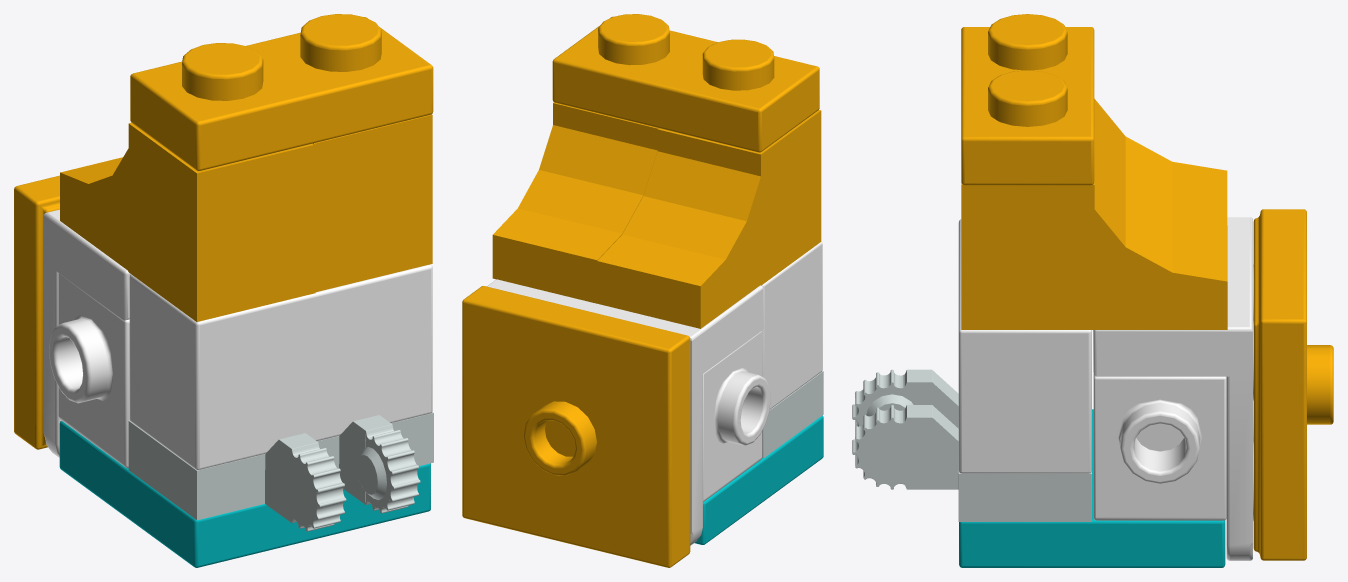
The model's file is Passo42.fbx.
3 renders of one model, left to right at view 1: azimuth 30°, elevation 25°; view 2: azimuth 150°, elevation 25°; view 3: azimuth 270°, elevation 25°, orthographic. The views are drawn at different scales.
Visible parts, largest first — view 1: Brick_1x2.003, Brick_curved_1x2.003, Plate_1x2.032, Hinge_plate.004, Brick_curved_1x2__1_, Plate_2x2.004, Brick_special_1x1__1_.016, Plate_special_2x2.001, Bracket__1x2.018; view 2: Plate_special_2x2.001, Brick_curved_1x2.003, Plate_1x2.032, Brick_curved_1x2__1_, Brick_special_1x1__1_.016, Bracket__1x2.018, Brick_1x2.003, Plate_2x2.004, Hinge_plate.004; view 3: Brick_curved_1x2__1_, Plate_1x2.032, Plate_special_2x2.001, Brick_1x2.003, Brick_special_1x1.016, Hinge_plate.004, Bracket__1x2.018, Plate_2x2.004, Brick_curved_1x2.003.
Part boxes in pixels (<box>): Brick_1x2.003: <box>129,264,432,469</box>; Brick_curved_1x2.003: <box>60,122,315,322</box>; Plate_1x2.032: <box>130,14,433,171</box>; Hinge_plate.004: <box>128,412,433,531</box>; Brick_curved_1x2__1_: <box>313,114,432,292</box>; Plate_2x2.004: <box>59,421,430,567</box>; Brick_special_1x1__1_.016: <box>49,273,129,467</box>; Plate_special_2x2.001: <box>14,175,59,449</box>; Bracket__1x2.018: <box>43,209,130,457</box>; Plate_special_2x2.001: <box>462,286,690,567</box>; Brick_curved_1x2.003: <box>597,110,821,328</box>; Plate_1x2.032: <box>552,14,819,152</box>; Brick_curved_1x2__1_: <box>492,102,658,303</box>; Brick_special_1x1__1_.016: <box>703,331,770,501</box>; Bracket__1x2.018: <box>487,279,763,545</box>; Brick_1x2.003: <box>761,242,822,409</box>; Plate_2x2.004: <box>694,415,823,544</box>; Hinge_plate.004: <box>762,370,823,458</box>; Brick_curved_1x2__1_: <box>961,129,1227,329</box>; Plate_1x2.032: <box>961,14,1094,185</box>; Plate_special_2x2.001: <box>1253,209,1333,560</box>; Brick_1x2.003: <box>958,219,1091,473</box>; Brick_special_1x1.016: <box>1093,374,1226,520</box>; Hinge_plate.004: <box>852,369,1091,521</box>; Bracket__1x2.018: <box>1093,217,1253,560</box>; Plate_2x2.004: <box>959,409,1225,567</box>; Brick_curved_1x2.003: <box>1094,98,1227,225</box>.
Size of the model in its own units: 0.1918 by 0.3035 by 0.2893.
